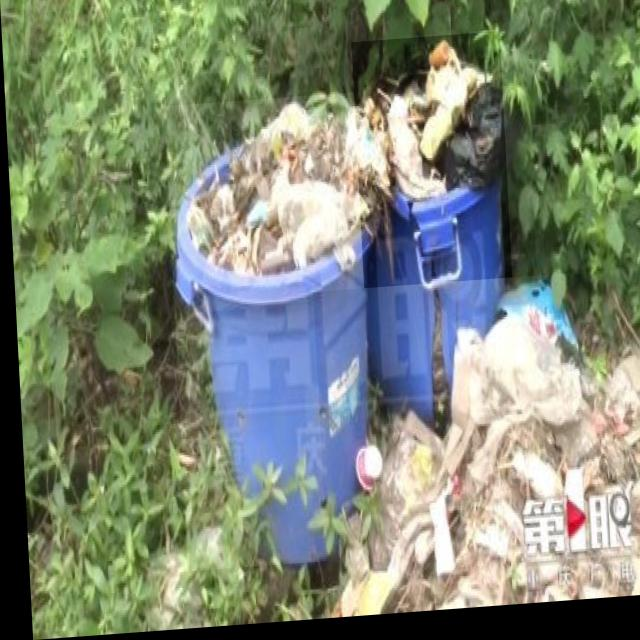garbage: (310, 277, 640, 621)
overflow: (163, 97, 384, 574), (351, 40, 514, 426)
